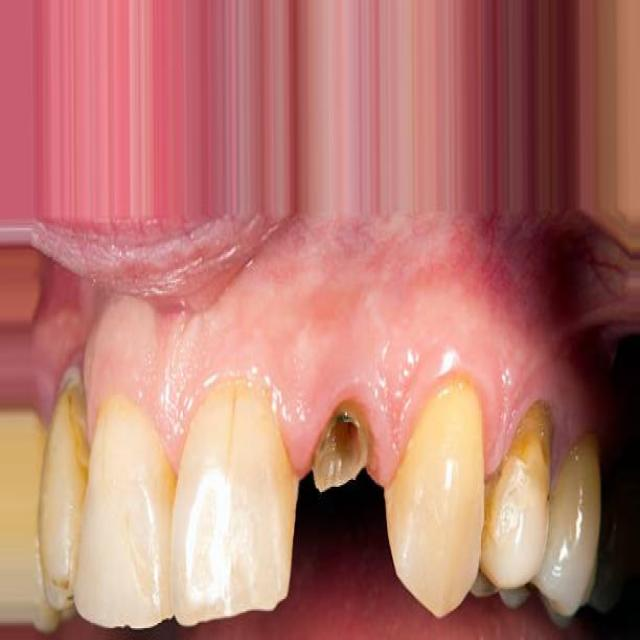caries: (308, 392, 381, 513), (509, 392, 564, 498)
